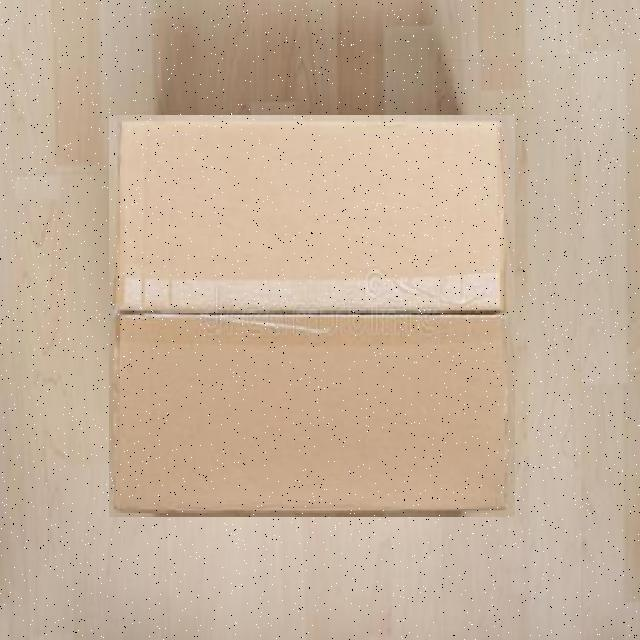normal: (110, 115, 516, 517)
